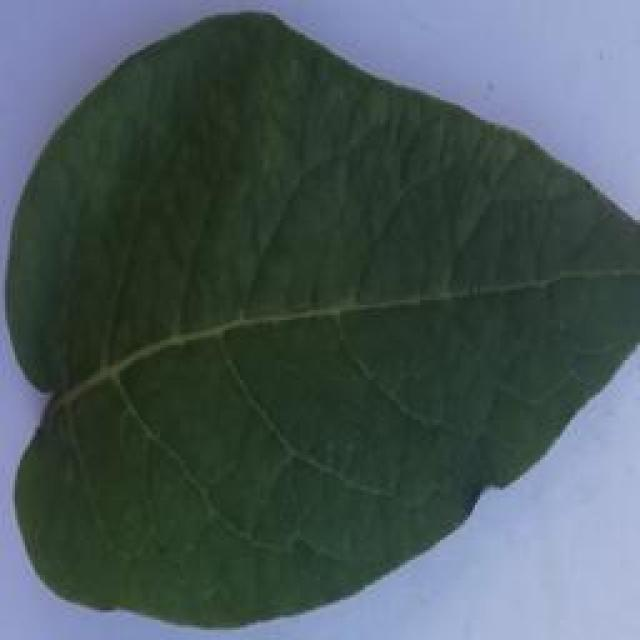Potato_Healthy: (8, 7, 630, 627)
